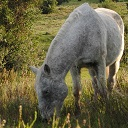caballo: (27, 0, 127, 124)
